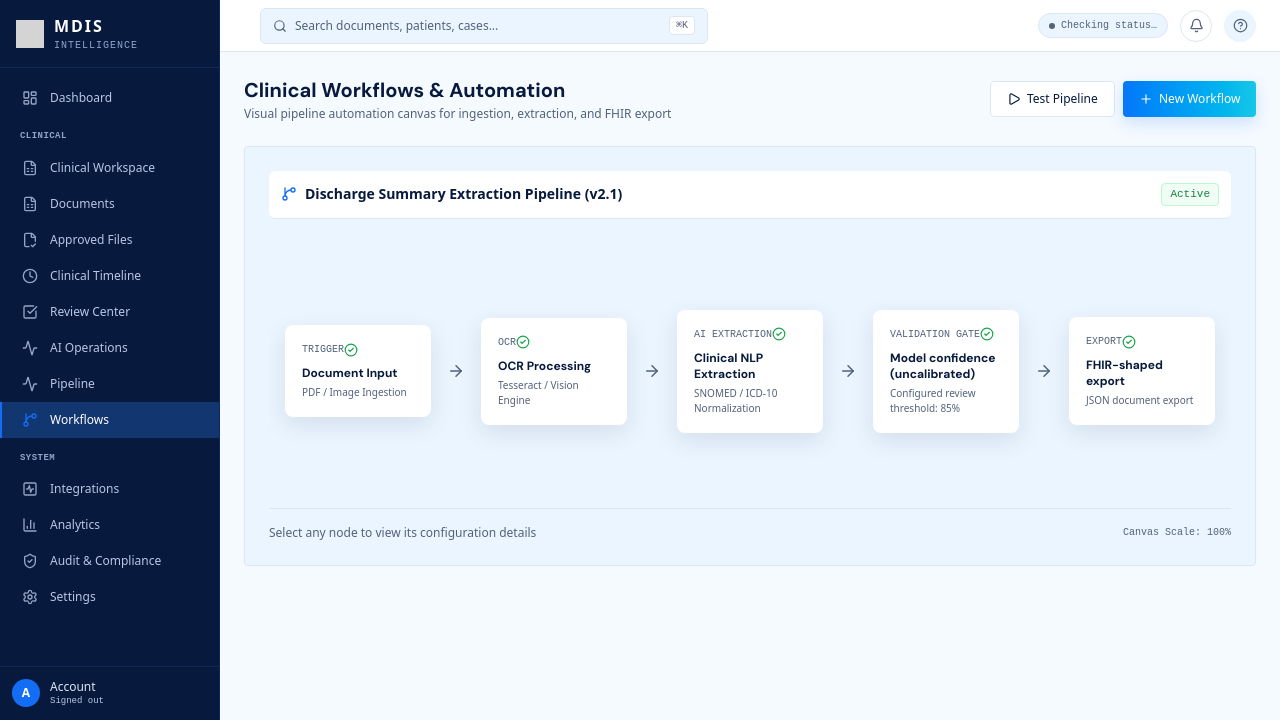
Scenario: 5. Workflows page › New Workflow shows info banner on click
Click the button "New Workflow" at (1189,99), box [1123,81,1256,117]
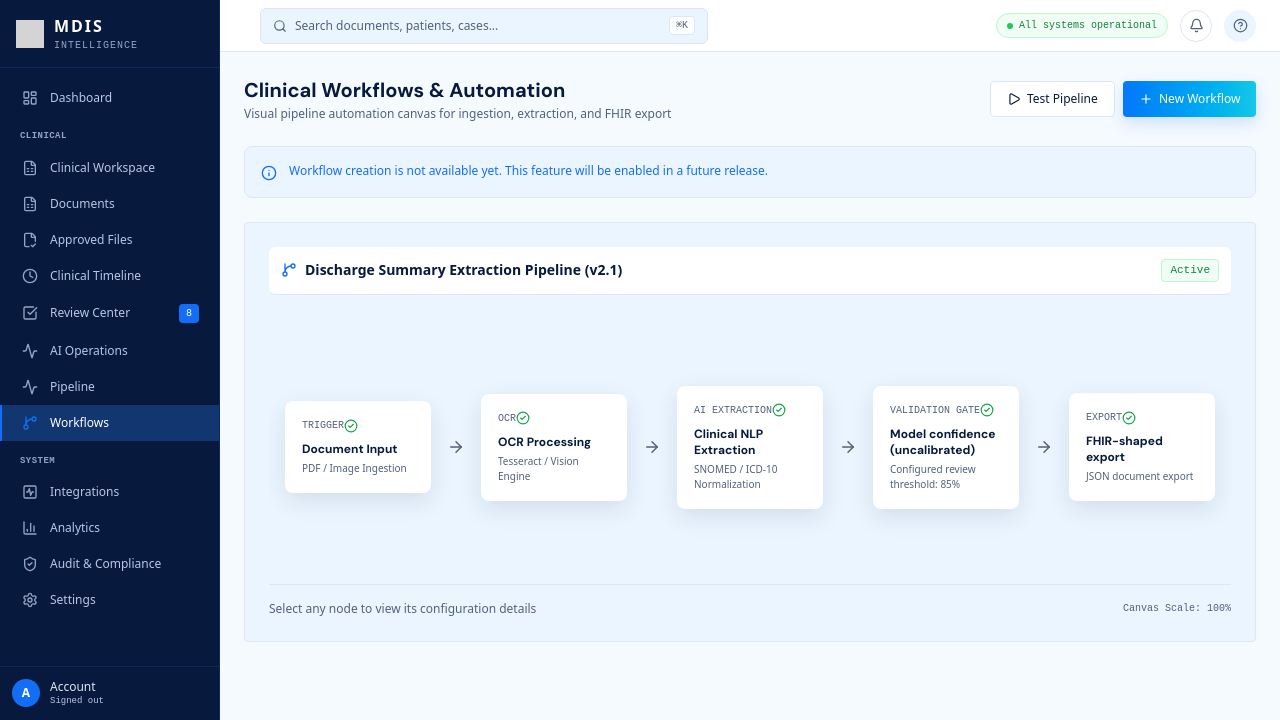
Expected: the message is shown, [244,146,1256,198]
